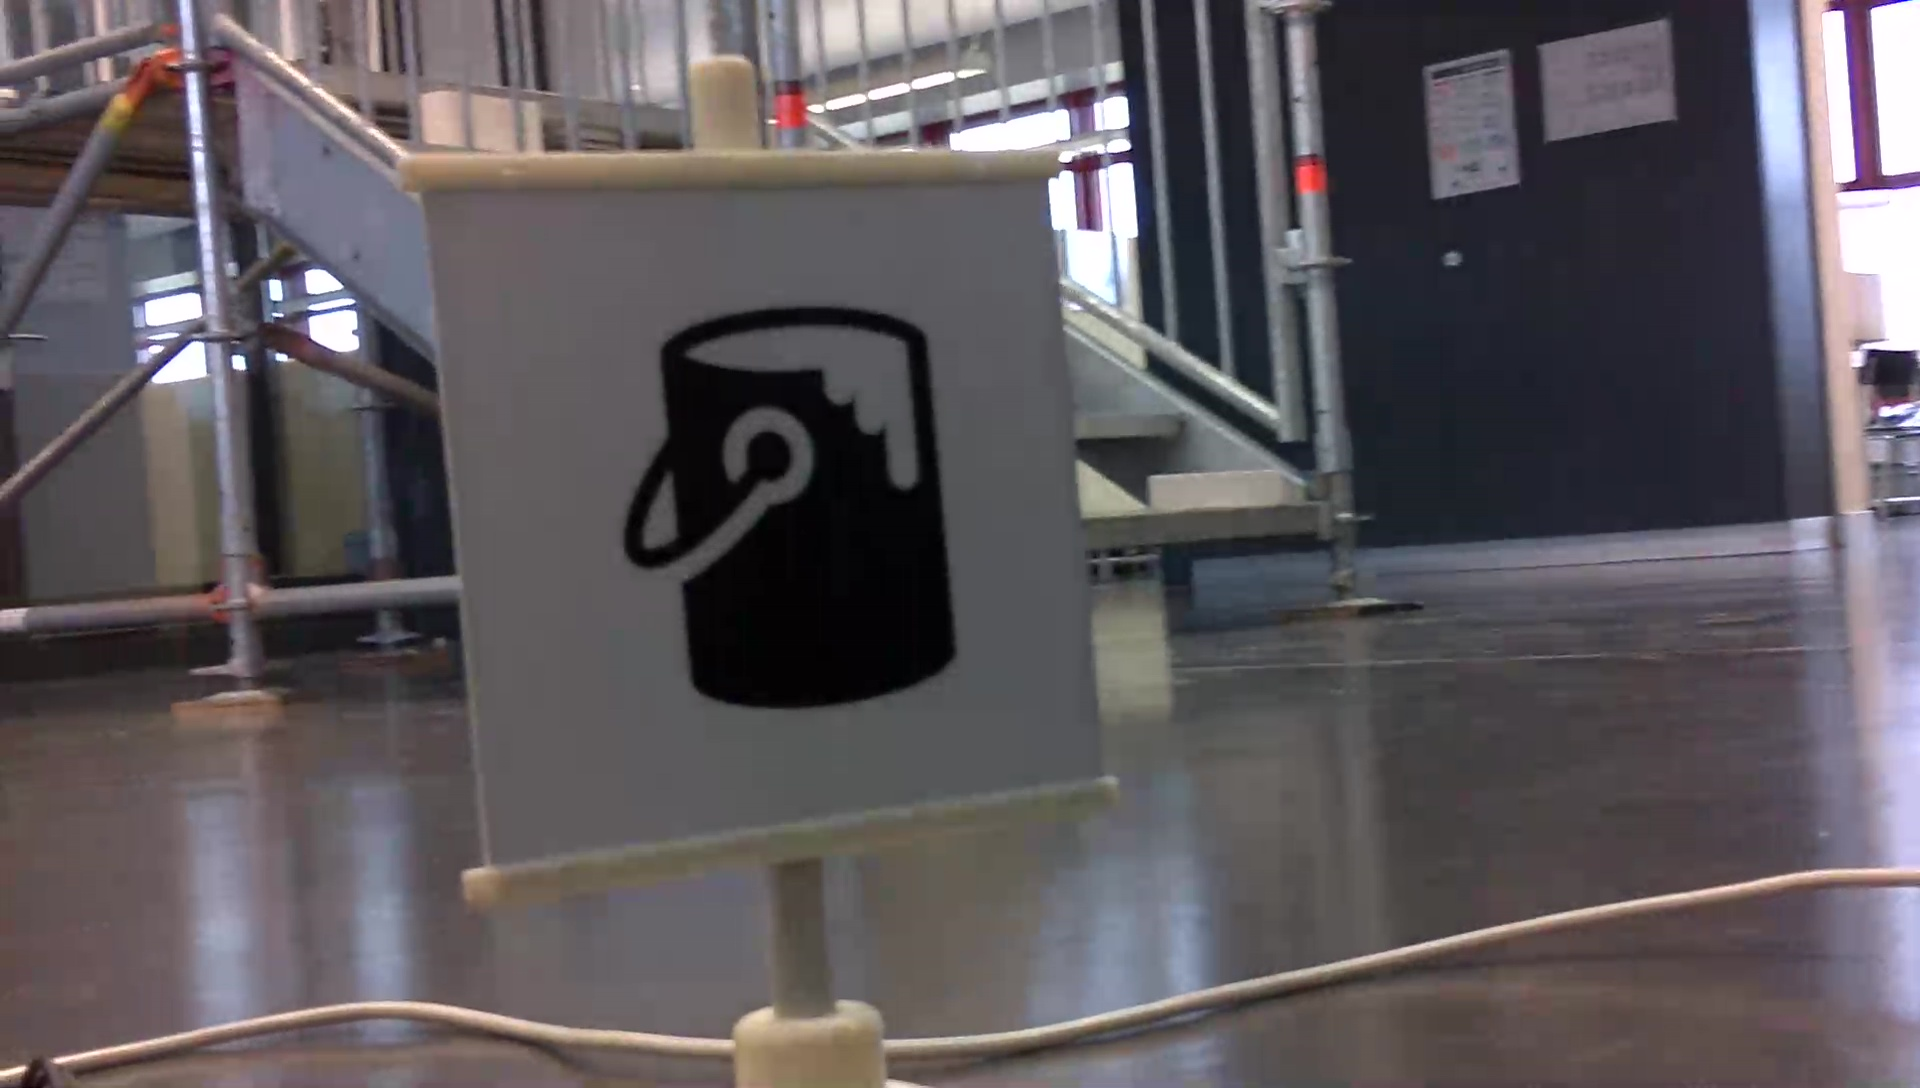brick: (1150, 472, 1279, 508)
bucket: (607, 293, 972, 721)
